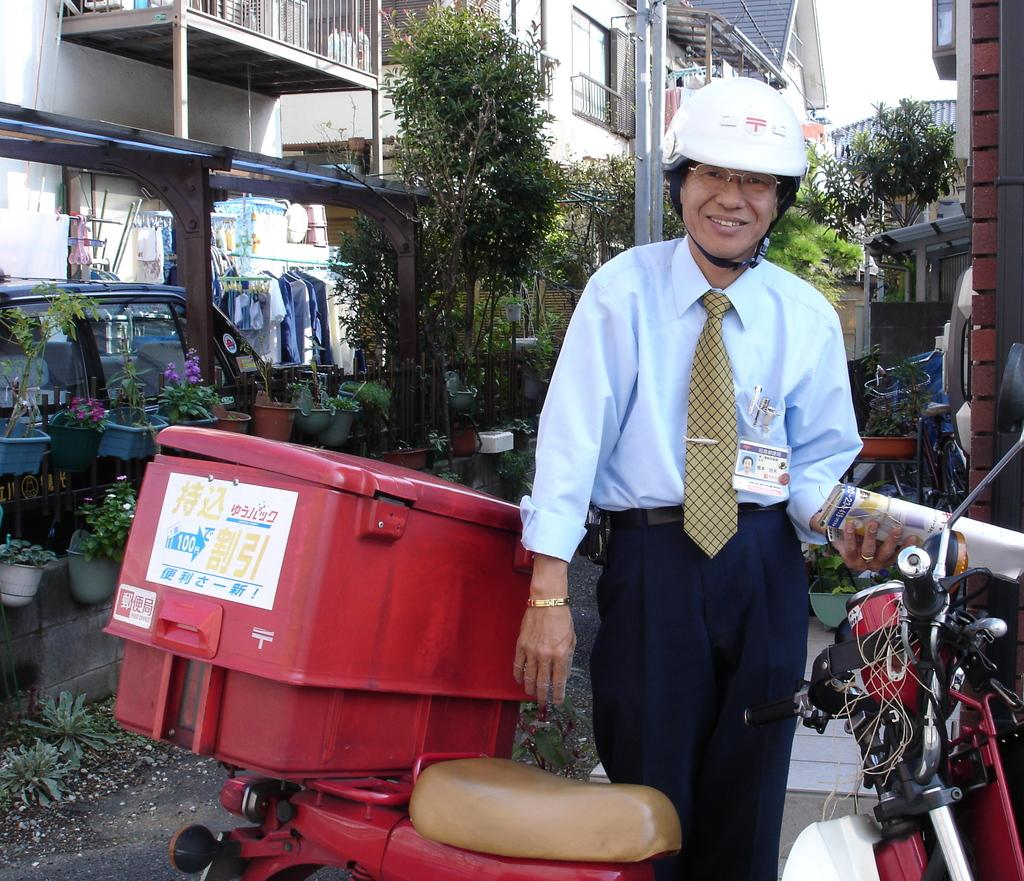helmet: (660, 76, 809, 260)
